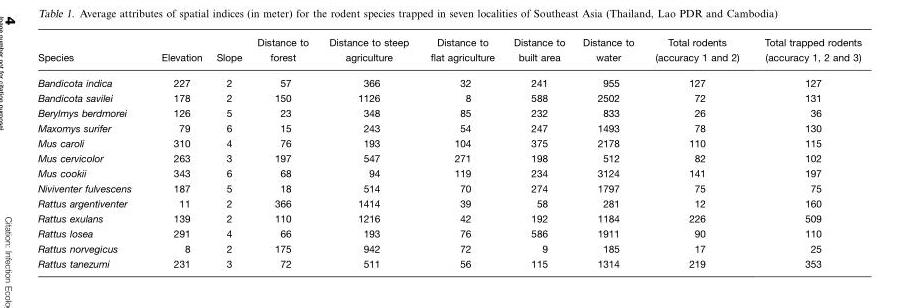table: (38, 37, 862, 268)
table column: (752, 37, 862, 268), (38, 37, 146, 268), (644, 37, 752, 268), (319, 37, 420, 268), (420, 37, 504, 268), (249, 37, 319, 268), (504, 37, 574, 268), (574, 37, 644, 268), (146, 37, 209, 268), (209, 37, 249, 268)
table column header: (38, 37, 862, 70)
table row: (38, 37, 862, 70), (38, 70, 862, 90), (38, 180, 862, 196), (38, 90, 862, 105), (38, 105, 862, 120), (38, 120, 862, 135), (38, 135, 862, 150), (38, 150, 862, 165), (38, 165, 862, 180), (38, 196, 862, 211), (38, 211, 862, 226), (38, 226, 862, 241), (38, 241, 862, 256), (38, 256, 862, 268)
